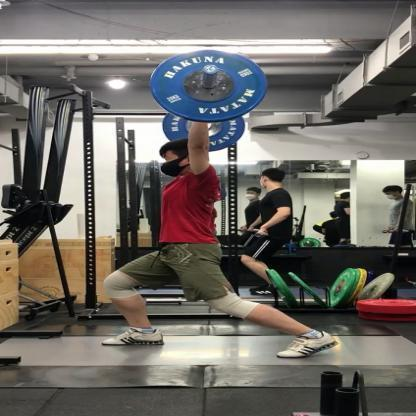barbell: (151, 51, 267, 150)
